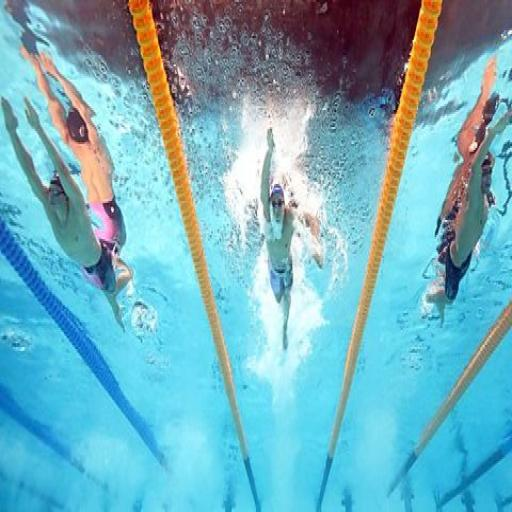swimming: (2, 36, 136, 336), (422, 53, 510, 326), (256, 123, 327, 355)
